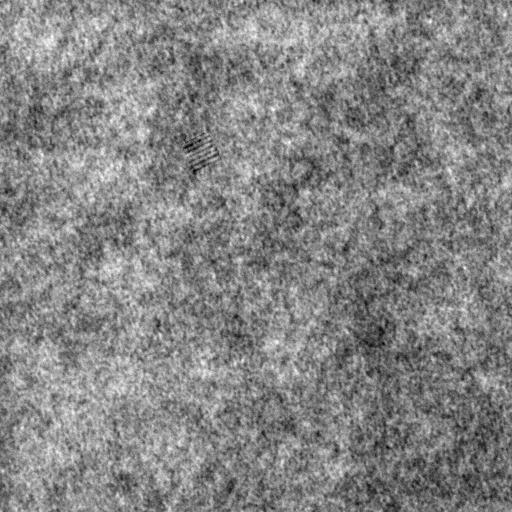impact: (181, 130, 224, 173)
